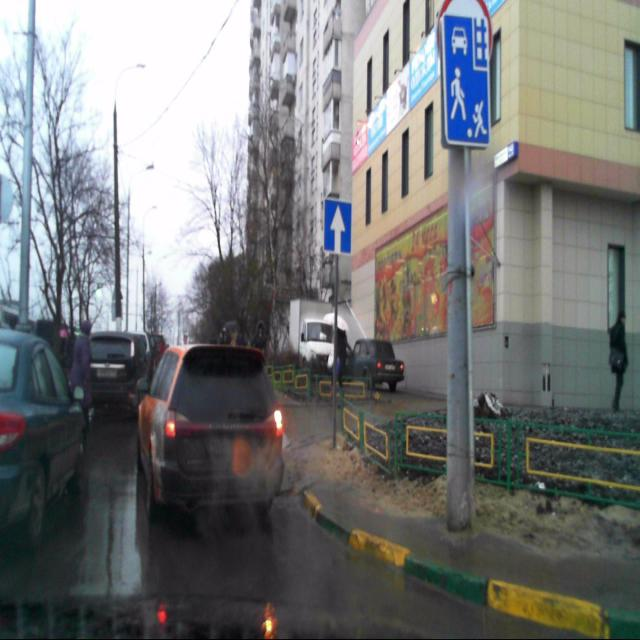object: (440, 34, 489, 148), (463, 148, 474, 532), (334, 253, 340, 452)
road sign: (322, 199, 352, 254)
